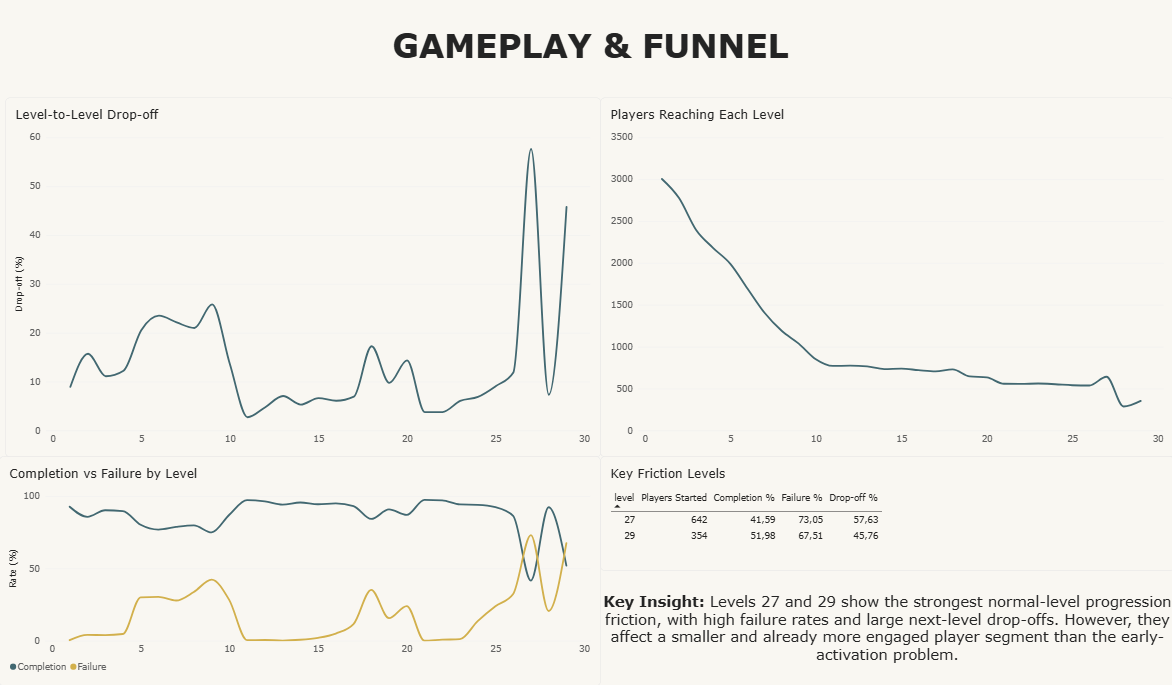

What the dashboard file says about the page in this screenshot:
{"tool":"powerbi","page":{"name":"Gameplay & Funnel","canvas":[1920,1080],"ordinal":2},"visuals":[{"type":"textbox","box":[10.3,0,1910.3,84.6],"z":0},{"type":"lineChart","title":"Level-to-Level Drop-off","fields":{"Category":["bi_level_funnel_v.level"],"Y":["Sum(bi_level_funnel_v.dropoff_pct)"]},"box":[10,117.5,972.5,587.5],"z":1},{"type":"lineChart","title":"Completion vs Failure by Level","fields":{"Category":["bi_level_funnel_v.level"],"Y":["Sum(bi_level_funnel_v.completion_pct)","Sum(bi_level_funnel_v.failure_pct)"]},"box":[0,705,982.5,375],"z":2},{"type":"lineChart","title":"Players Reaching Each Level","fields":{"Category":["bi_level_funnel_v.level"],"Y":["Sum(bi_level_funnel_v.players_started)"]},"box":[982.5,117.5,937.5,587.5],"z":3},{"type":"tableEx","title":"Key Friction Levels","fields":{"Values":["bi_level_funnel_v.level","bi_level_funnel_v.players_started","bi_level_funnel_v.completion_pct","bi_level_funnel_v.failure_pct","bi_level_funnel_v.dropoff_pct"]},"box":[982.5,705,937.5,187.5],"z":4},{"type":"textbox","box":[982.5,927.5,937.5,152.5],"z":5}]}

Visuals, with their boxes on the page's 1920x1080 design canvas (x1, y1, x2, y2). These are canvas units, not pixel positions in the 1172x685 screenshot, which may show the page scaled, cropped or inside an application window:
textbox: BBox(10, 0, 1921, 85)
"Level-to-Level Drop-off" lineChart: BBox(10, 118, 982, 705)
"Completion vs Failure by Level" lineChart: BBox(0, 705, 982, 1080)
"Players Reaching Each Level" lineChart: BBox(982, 118, 1920, 705)
"Key Friction Levels" tableEx: BBox(982, 705, 1920, 892)
textbox: BBox(982, 928, 1920, 1080)
